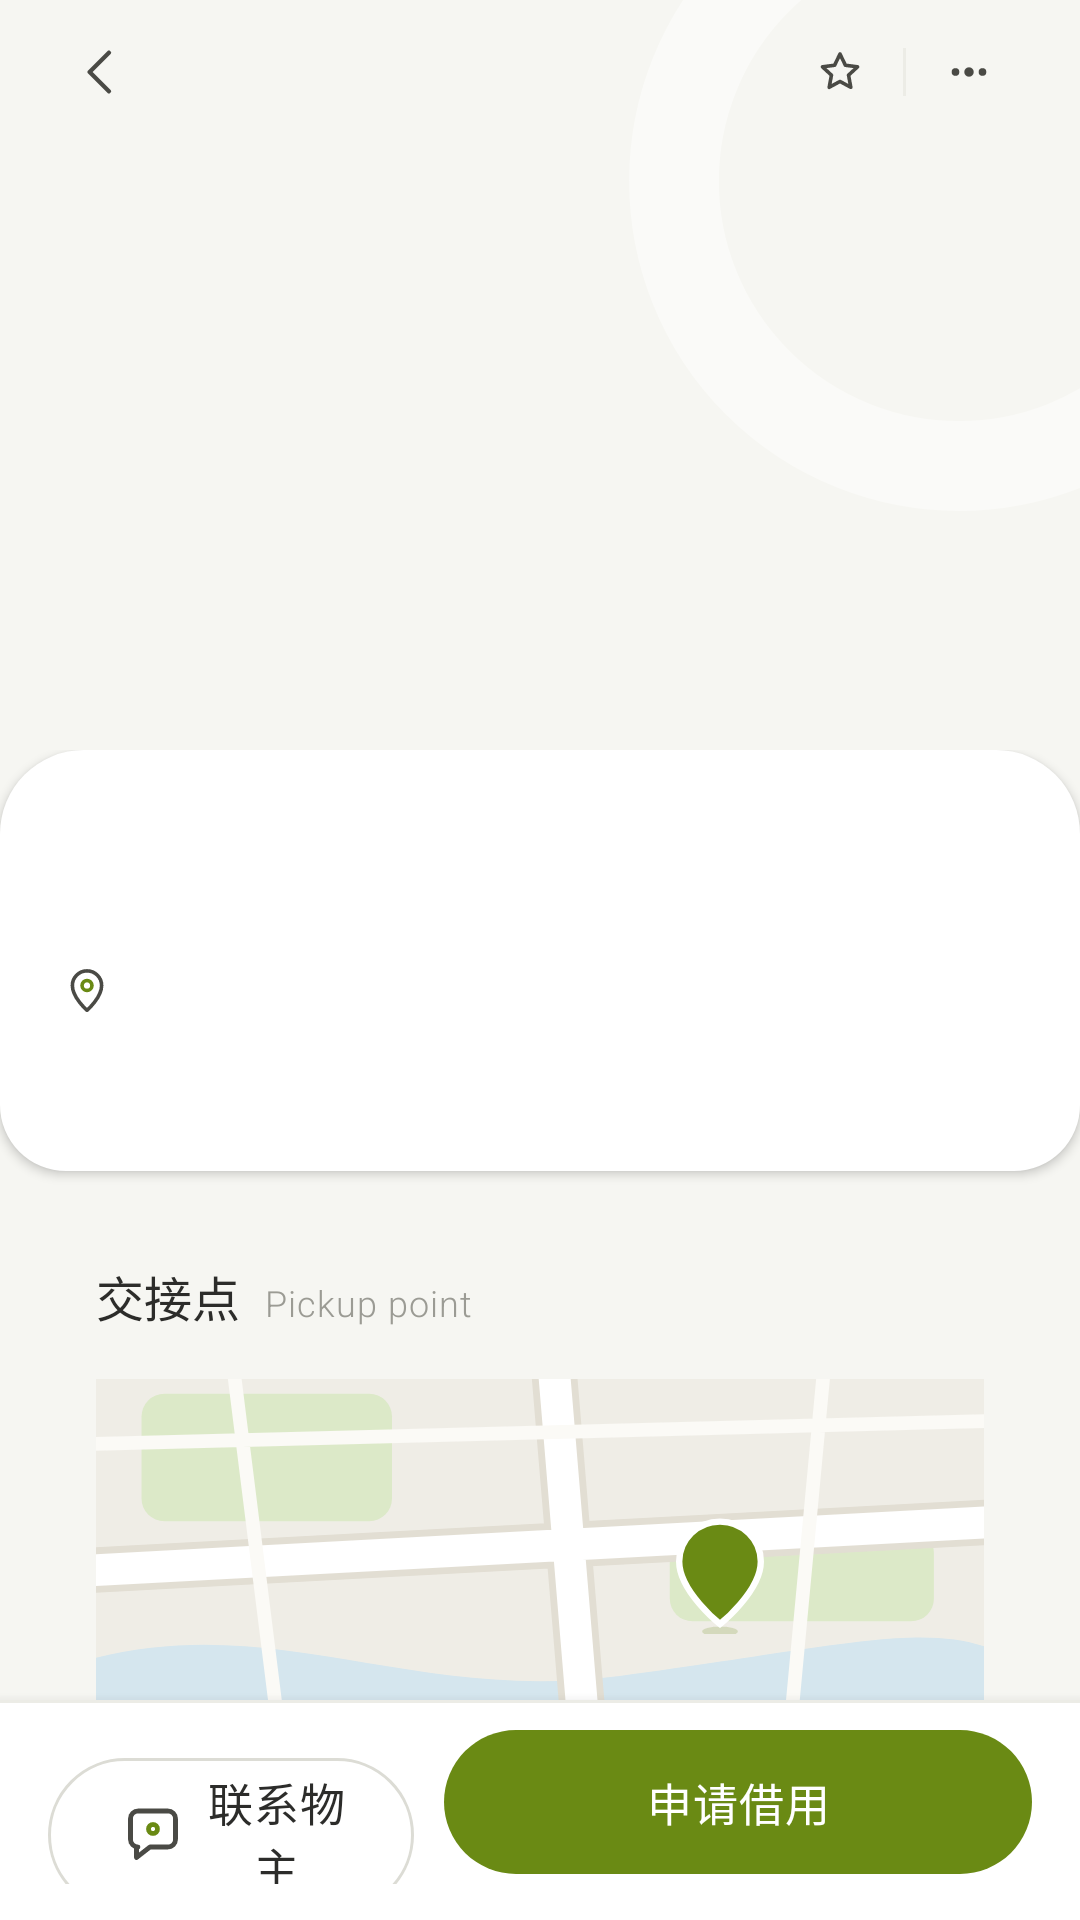

Locate icon controls on the screen. Image size 1080 × 1920, boxes as (x1, y1, x2, y2).
pin: (70, 969, 104, 1012)
收藏: (820, 52, 860, 89)
更多: (951, 67, 987, 77)
返回: (87, 50, 111, 94)
